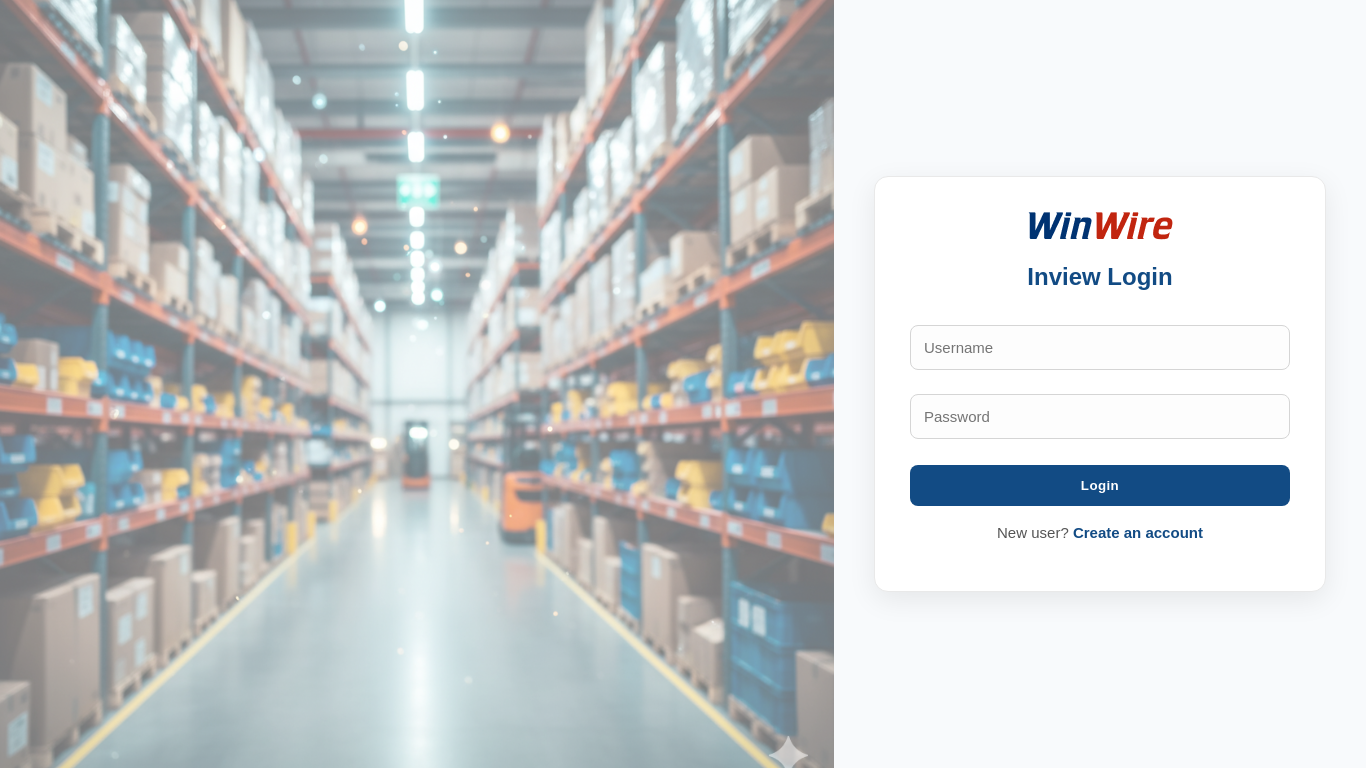
Test: displays generic error message on network error
The width and height of the screenshot is (1366, 768).
Type "user" into the field with placeholder "Username".
click(1100, 348); type("user")  # box [910, 326, 1290, 370]
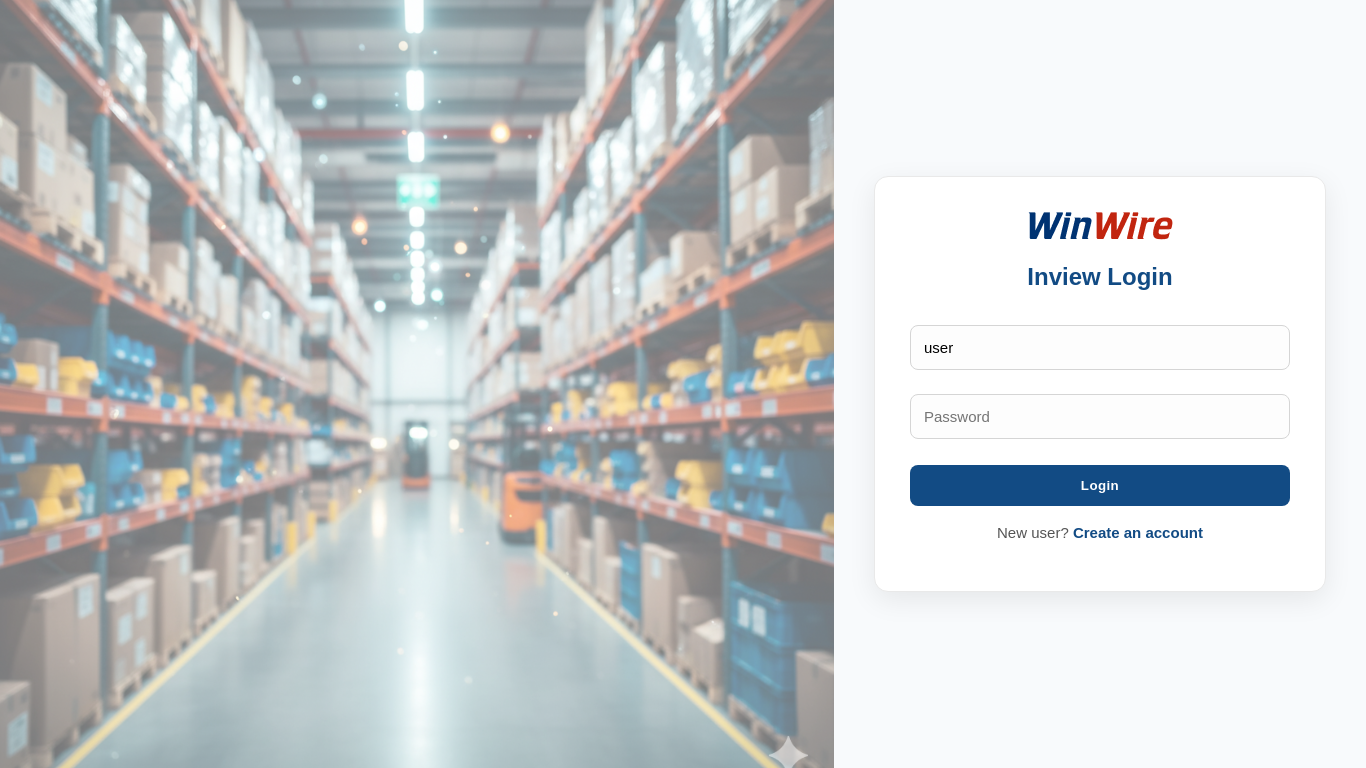
Type "pass" into the password field with placeholder "Password".
click(1100, 417); type("pass")  # box [910, 394, 1290, 440]
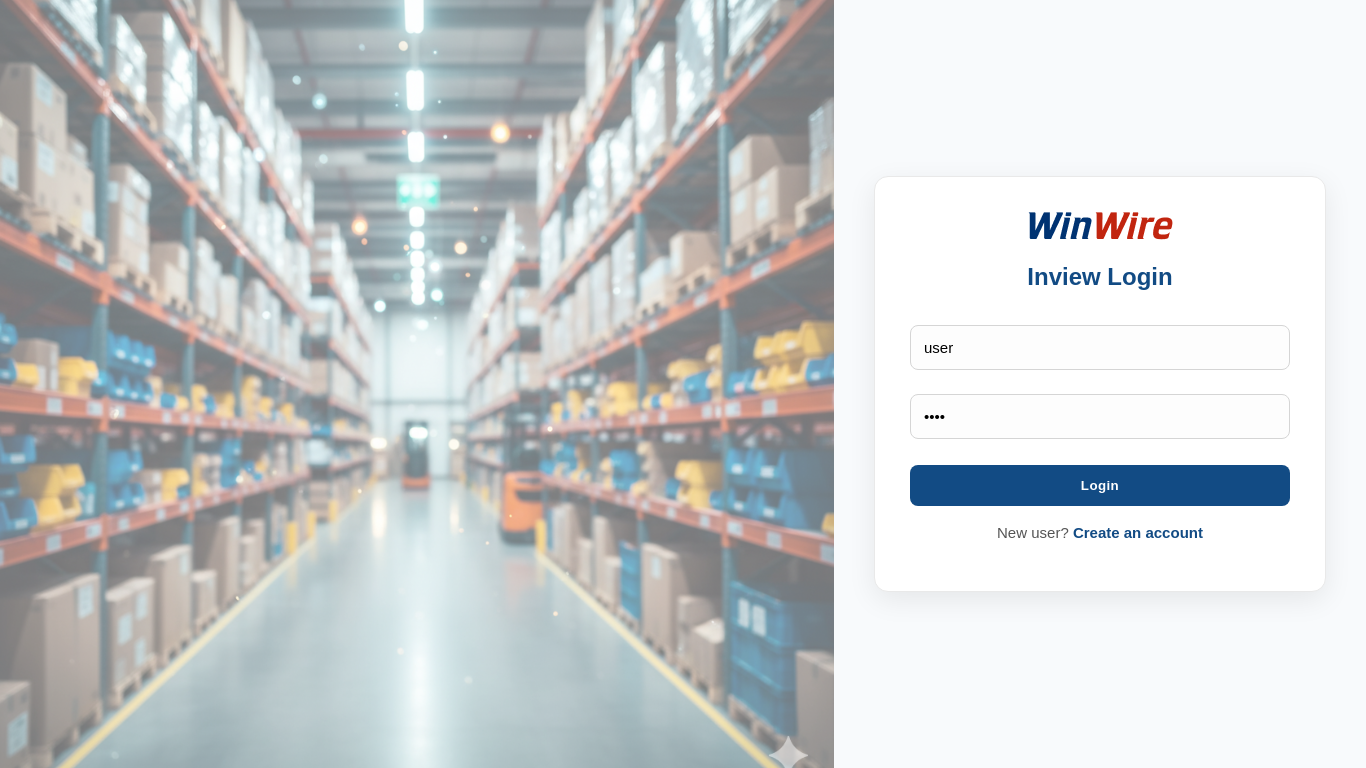
Click the button "Login".
click(1100, 486)  # box [910, 466, 1290, 506]
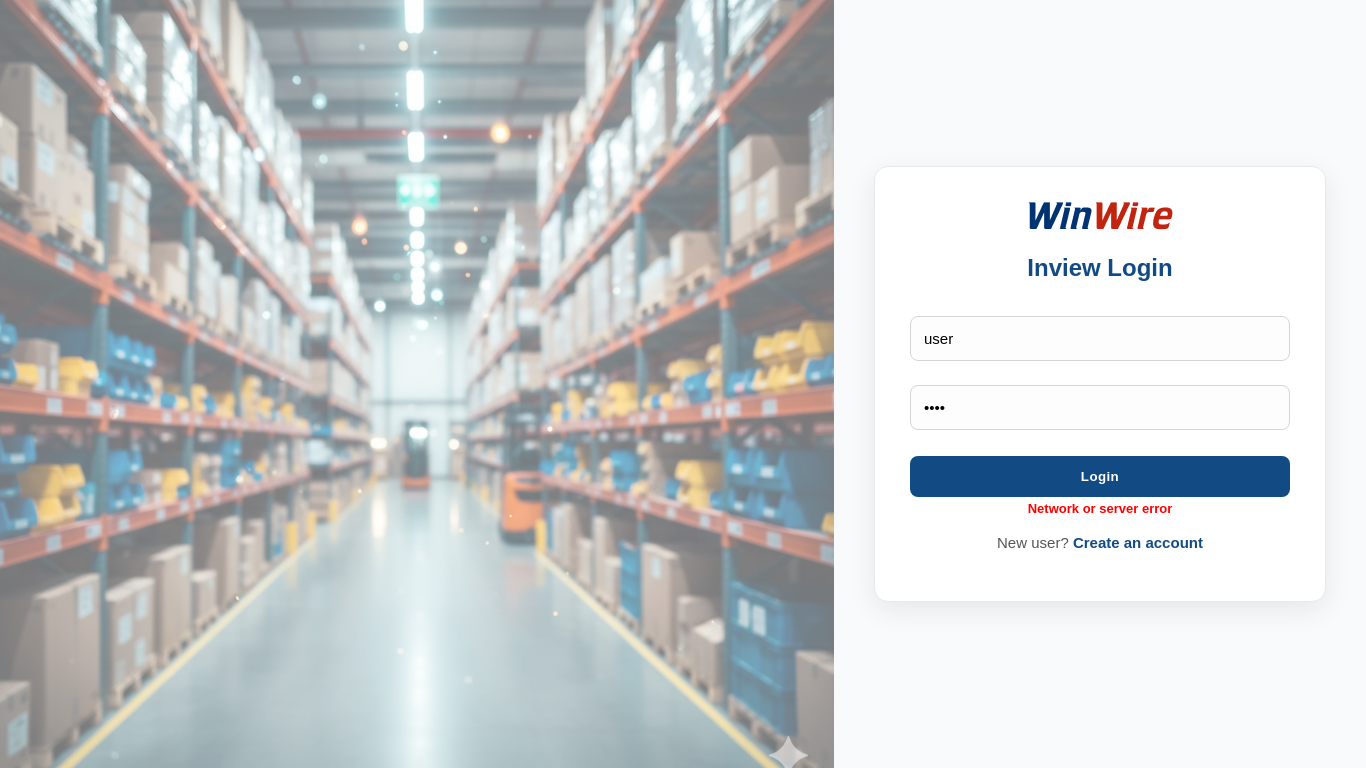
Expected: the text "Network or server error" is shown, [1028, 501, 1172, 516]
